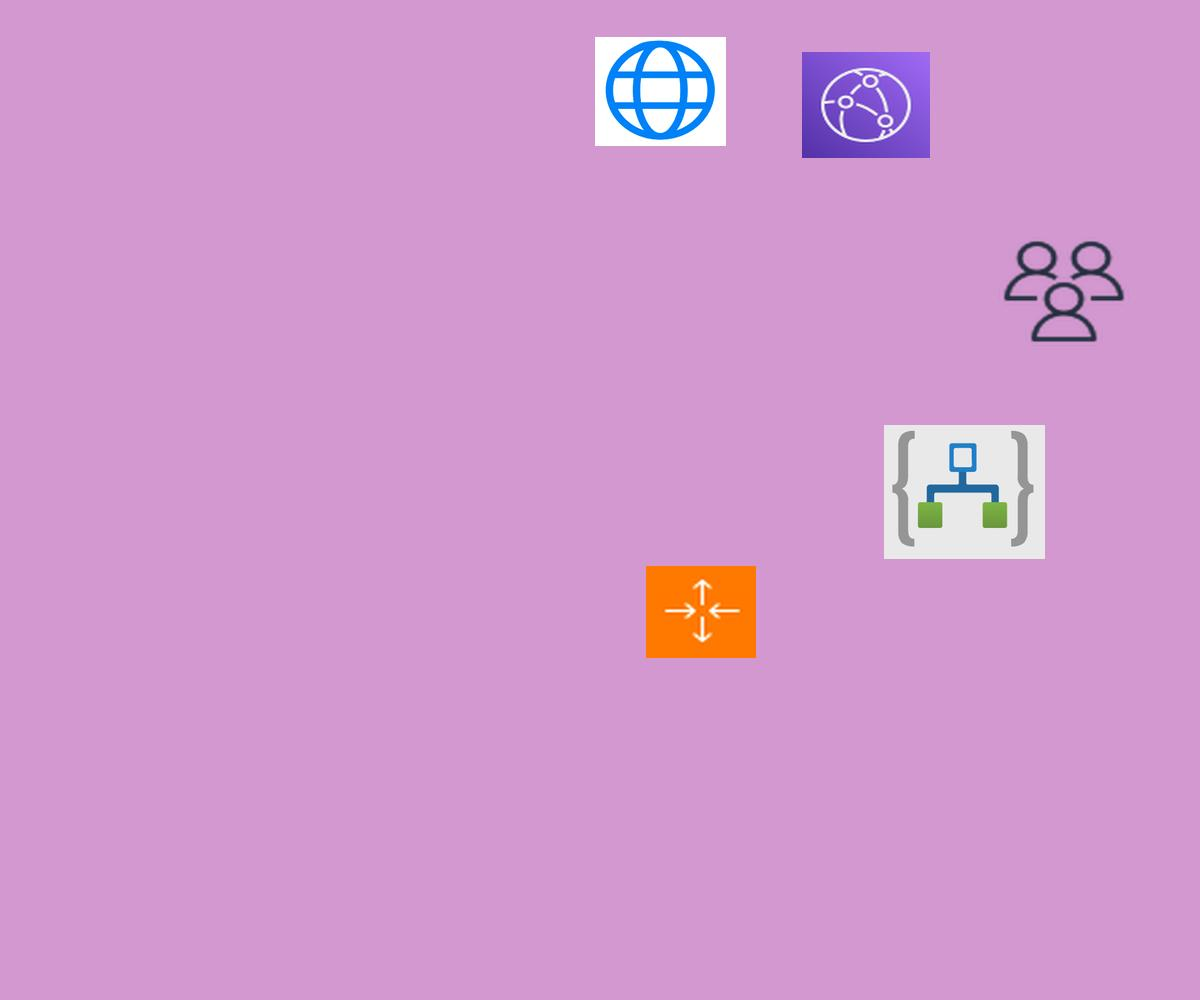AWS-CloudFront: (802, 52, 930, 158)
AWS-Res_Users: (999, 237, 1129, 346)
AWS-Scaling-group: (646, 566, 756, 658)
Azure_http: (595, 37, 726, 146)
Azure_integration-204-Logic-Apps: (884, 425, 1045, 559)
